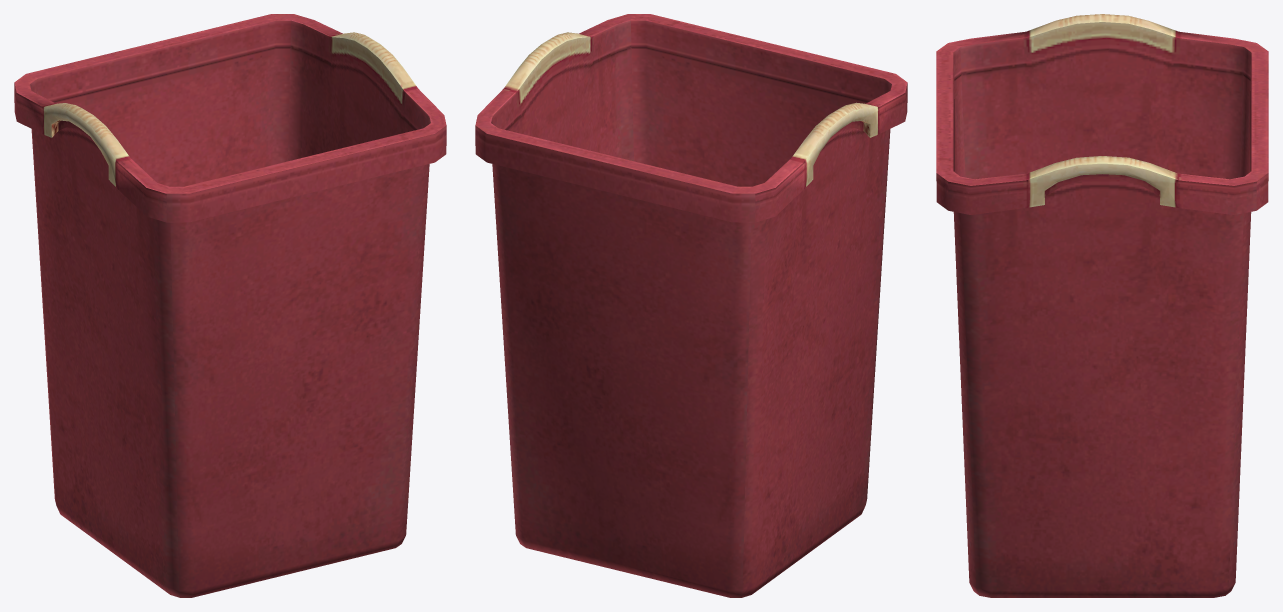
File: laundry_basket.dae
3 views of the same model, side by side, from view 1: azimuth 30°, elevation 25°; view 2: azimuth 150°, elevation 25°; view 3: azimuth 270°, elevation 25° (orthographic).
Visible parts, largest first — view 1: laundry_basket; view 2: laundry_basket; view 3: laundry_basket.
Boxes of the visible parts, box(x1,y1,x2,y2) form: laundry_basket: box(14, 14, 446, 597); laundry_basket: box(475, 14, 907, 597); laundry_basket: box(936, 14, 1268, 597).
Bounding box in the file's own units: 71.48 × 102 × 66.65.
